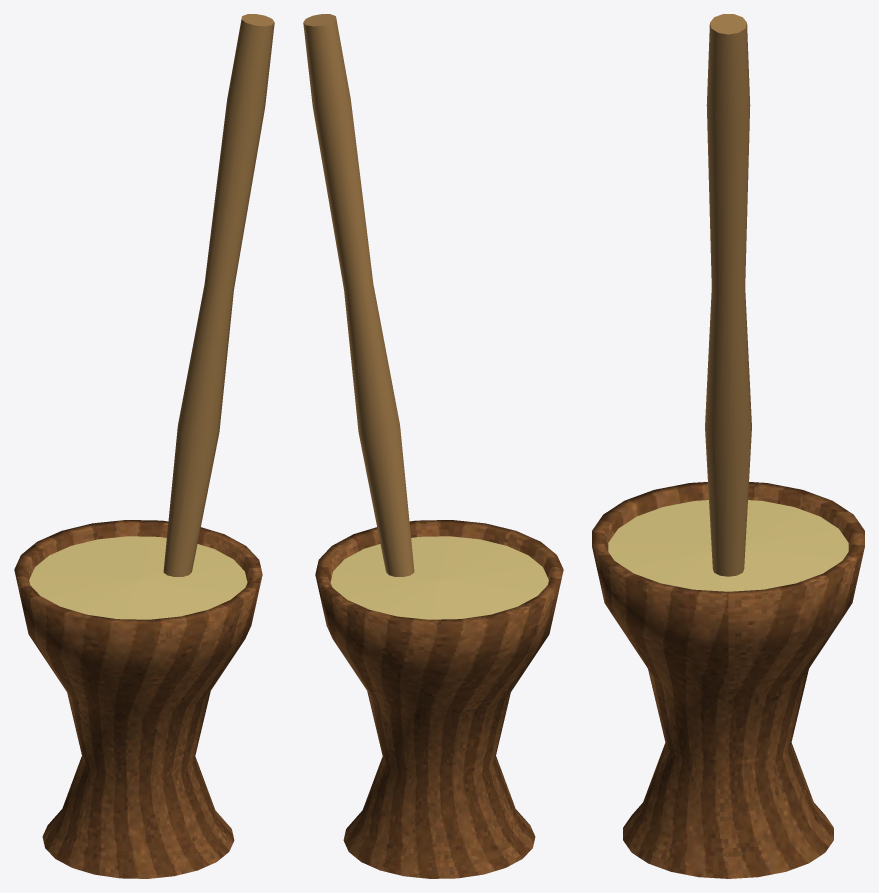
File: mortier-pilon.glb
3 views of the same model, side by side, from view 1: azimuth 30°, elevation 25°; view 2: azimuth 150°, elevation 25°; view 3: azimuth 270°, elevation 25° (orthographic). The views are drawn at different scales.
Visible parts, largest first — view 1: mortier-pilon; view 2: mortier-pilon; view 3: mortier-pilon.
Boxes of the visible parts, x1=… form: mortier-pilon: x1=14, y1=14, x2=274, y2=878; mortier-pilon: x1=303, y1=14, x2=563, y2=878; mortier-pilon: x1=592, y1=14, x2=864, y2=878.
Bounding box in the file's own units: 0.4937 × 1.55 × 0.4355.
Materials: 3 (1 with a texture image).
